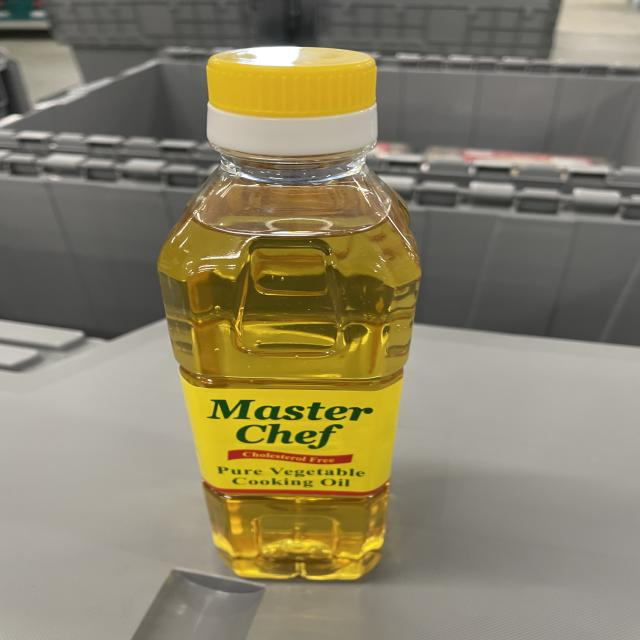object_name: (179, 46, 406, 576)
